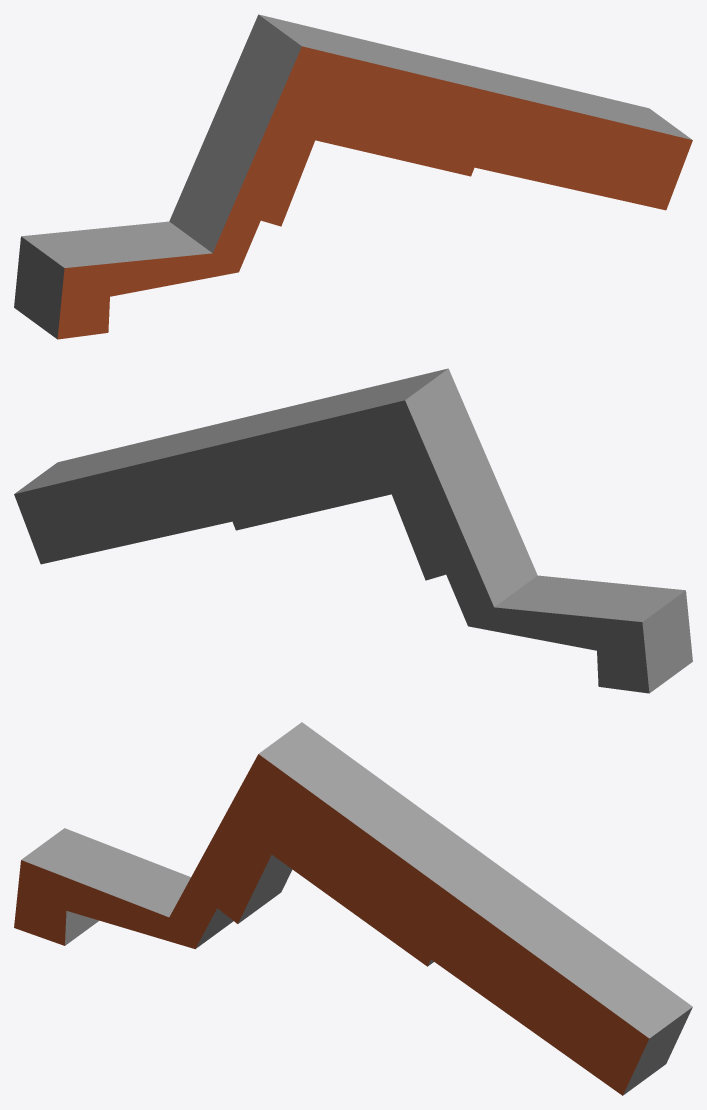
File: construction_5157_assumed_A_Casa_h6m.obj
3 renders of one model, top to bottom at view 1: azimuth 30°, elevation 25°; view 2: azimuth 150°, elevation 25°; view 3: azimuth 330°, elevation 25°, orthographic.
Visible parts, largest first — view 1: construction_5157_assumed_A_Casa; view 2: construction_5157_assumed_A_Casa; view 3: construction_5157_assumed_A_Casa.
Part boxes in pixels (x1,y1,x2,y2): construction_5157_assumed_A_Casa: (14, 14, 692, 339); construction_5157_assumed_A_Casa: (14, 368, 692, 693); construction_5157_assumed_A_Casa: (14, 722, 692, 1095).
Bounding box in the file's own units: 50.54 × 19.23 × 6.
